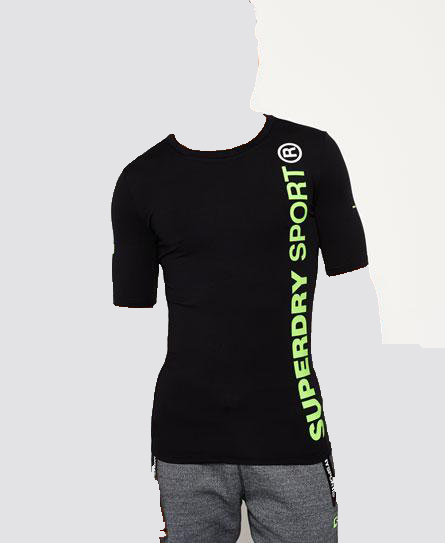teeshirt: (108, 110, 378, 467)
